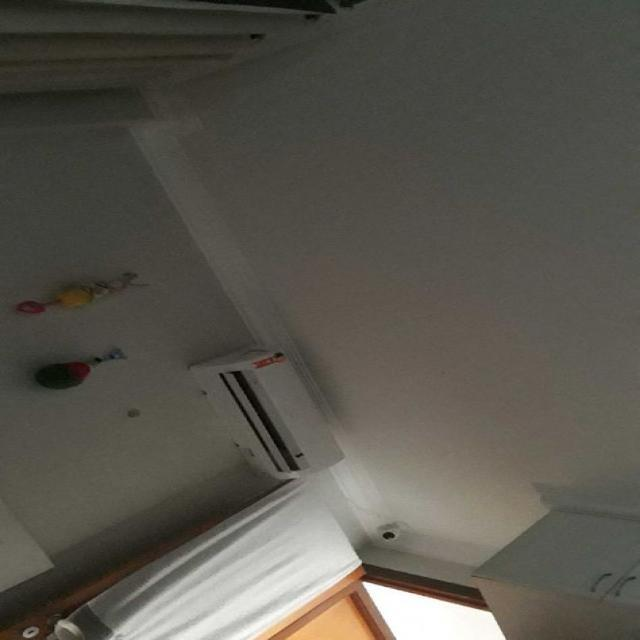AC: (187, 344, 345, 480)
